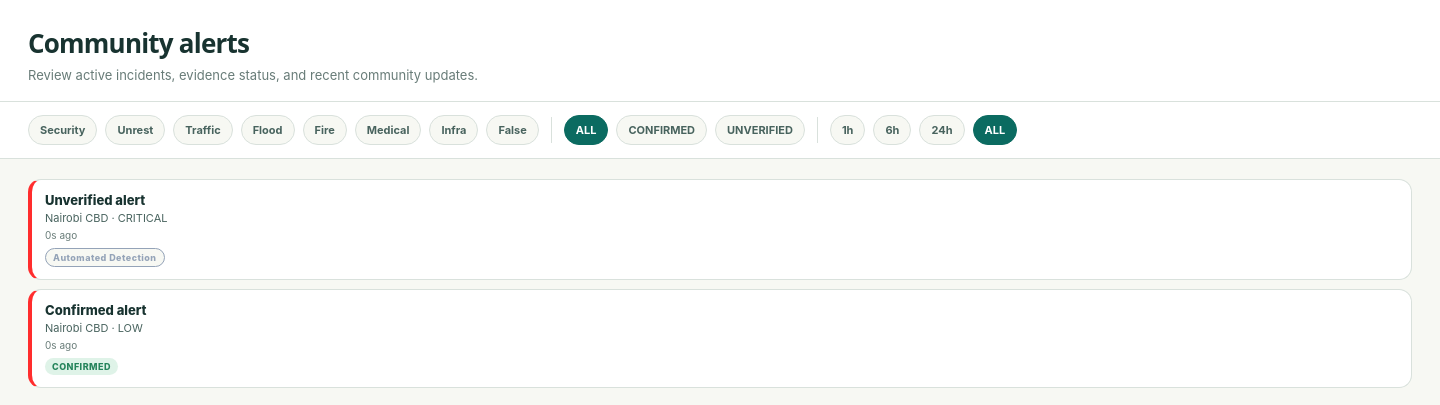
Test: AlertsPage › shows only confirmed events when status filter is confirmed
The image size is (1440, 405).
Click the button with test id "status-filter-CONFIRMED".
click(662, 130)  # box [616,115,707,145]
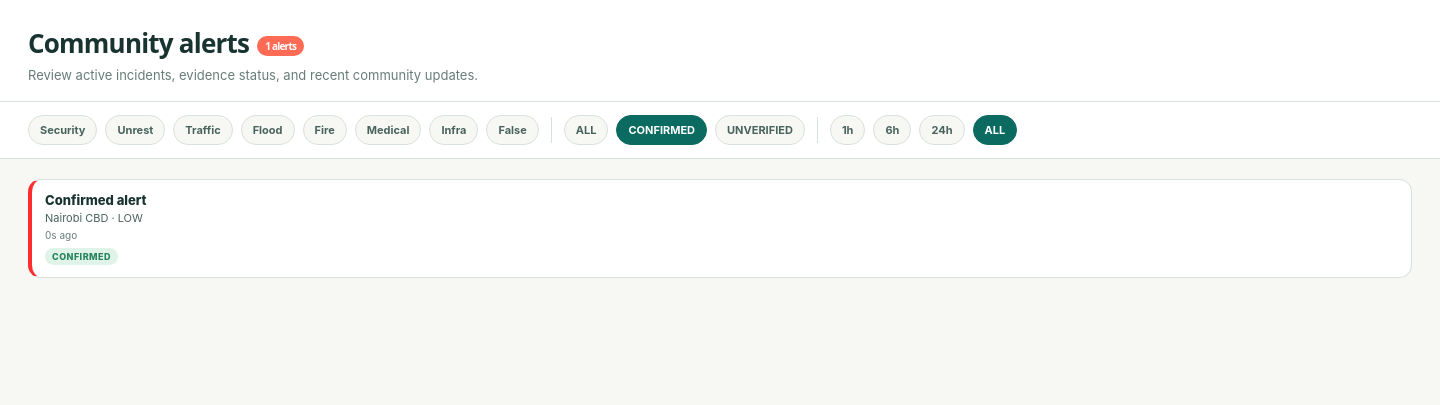
Expected: the text "Confirmed alert" is shown, [45,192,146,208]
Now the button "Unverified alert" is gone
